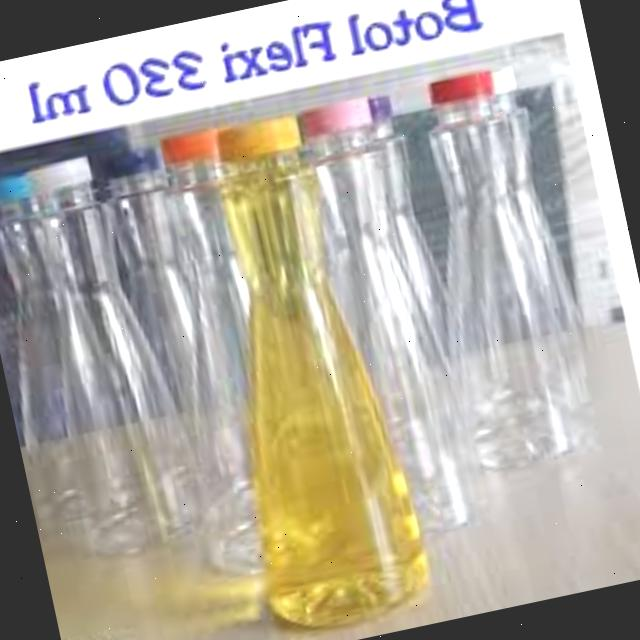trash: (170, 99, 446, 640), (272, 73, 497, 560), (378, 62, 615, 498), (118, 122, 324, 585), (64, 134, 263, 546), (0, 147, 197, 561), (0, 165, 116, 552)
